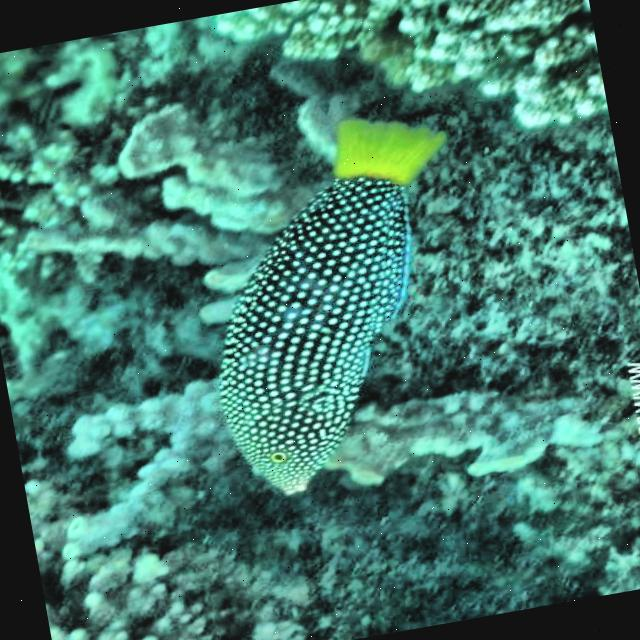fish: (172, 100, 504, 504)
